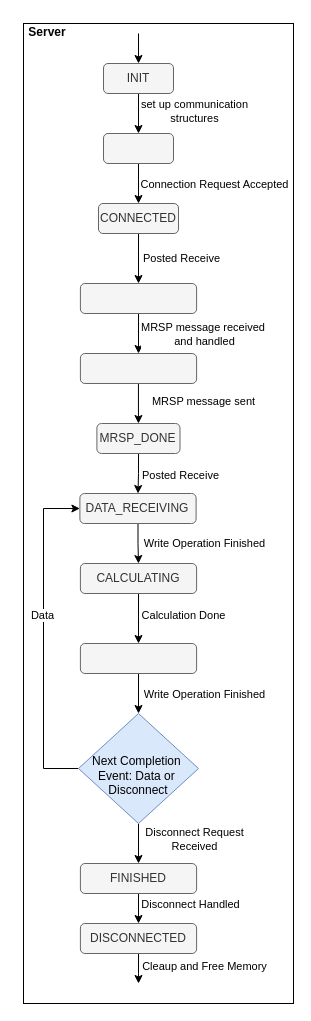
The diagram is 311 pixels wide and 1021 high, and some of its shapes have lost their labels. The centre of each missing label's shape, as x and y in pixels:
"DATA_SENDING" goes at point 138,658.
"MRSP_RECEIVING" goes at point 138,298.
"MRSP_SENDING" goes at point 138,368.
"READY" goes at point 138,148.
